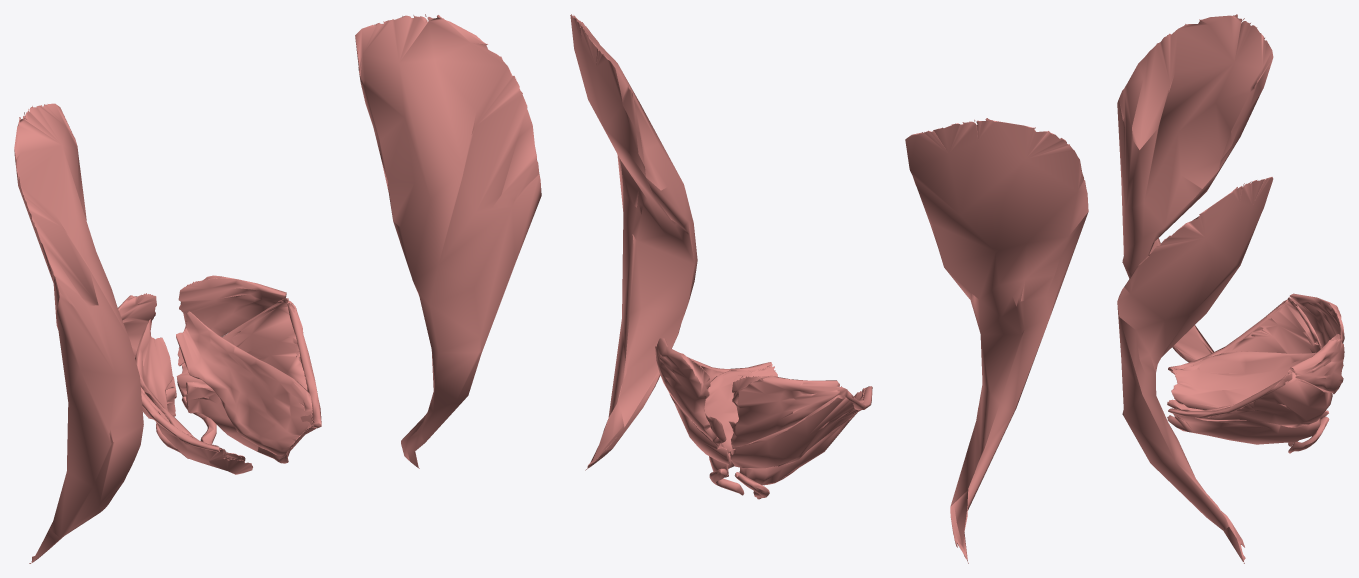
The model's file is muscles-bassin.lo.glb.
3 views of the same model, side by side, from view 1: azimuth 30°, elevation 25°; view 2: azimuth 150°, elevation 25°; view 3: azimuth 270°, elevation 25° (orthographic). The views are drawn at different scales.
Parts seen in each view (by area): view 1: FJ1422M, FJ1422, FJ2545, FJ2542, FJ2544, FJ2550, FJ2546, FJ2551, FJ2547, FJ2552, FJ2553; view 2: FJ1422, FJ1422M, FJ2547, FJ2549, FJ2542, FJ2545, FJ2551, FJ2544; view 3: FJ1422, FJ1422M, FJ2550, FJ2544, FJ2549, FJ2546, FJ2542, FJ2547, FJ2552, FJ2553, FJ2543, FJ2551.
Boxes of the visible parts, x1,y1,x2,y2 form: FJ1422M: (355, 14, 541, 468); FJ1422: (14, 103, 143, 563); FJ2545: (176, 311, 312, 455); FJ2542: (177, 275, 288, 366); FJ2544: (176, 298, 307, 396); FJ2550: (135, 319, 245, 460); FJ2546: (186, 382, 316, 463); FJ2551: (156, 387, 252, 474); FJ2547: (118, 293, 156, 357); FJ2552: (287, 300, 321, 428); FJ2553: (141, 391, 220, 452); FJ1422: (905, 118, 1088, 563); FJ1422M: (570, 14, 697, 470); FJ2547: (731, 375, 839, 448); FJ2549: (730, 383, 861, 468); FJ2542: (655, 338, 721, 445); FJ2545: (704, 369, 777, 452); FJ2551: (739, 388, 865, 485); FJ2544: (669, 365, 729, 464); FJ1422: (1117, 14, 1273, 362); FJ1422M: (1117, 177, 1273, 563); FJ2550: (1171, 351, 1316, 409); FJ2544: (1195, 370, 1332, 427); FJ2549: (1222, 297, 1321, 353); FJ2546: (1167, 408, 1320, 444); FJ2542: (1289, 334, 1344, 394); FJ2547: (1289, 293, 1344, 368); FJ2552: (1168, 373, 1292, 417); FJ2553: (1168, 299, 1288, 371); FJ2543: (1288, 416, 1329, 453); FJ2551: (1167, 363, 1204, 411).
Bounding box in the file's own units: 0.2545 × 0.224 × 0.1205.
